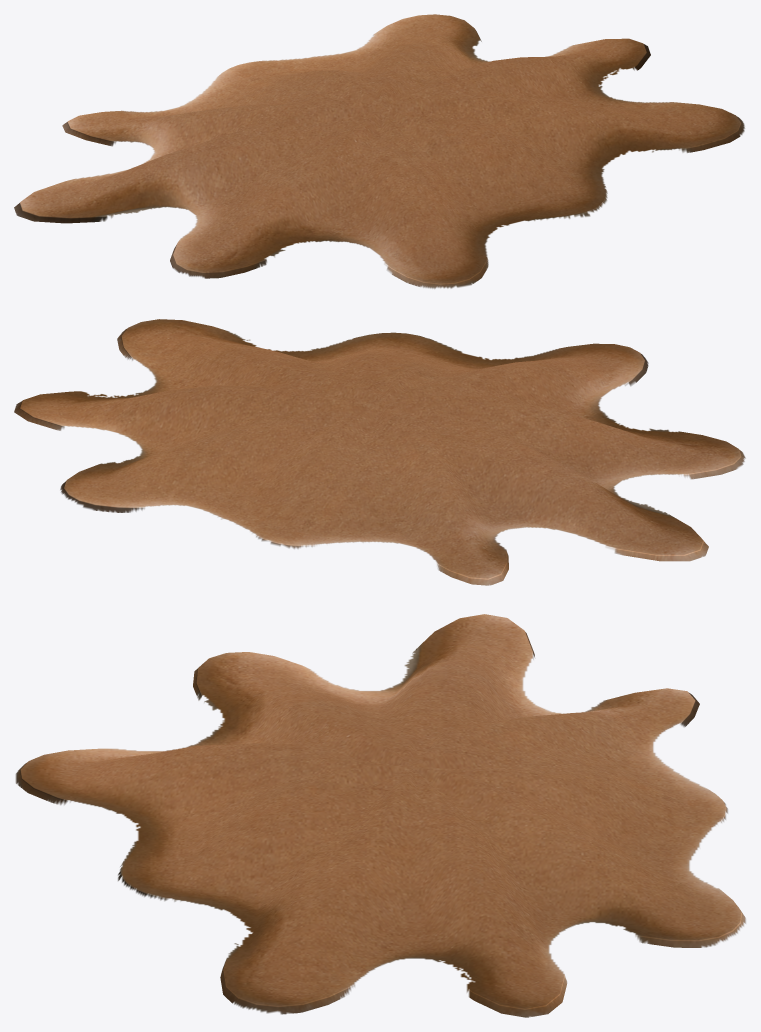
File: dirt_12.glb
The picture shows the model from 3 angles, top to bottom: view 1: azimuth 30°, elevation 25°; view 2: azimuth 150°, elevation 25°; view 3: azimuth 270°, elevation 25°; orthographic projection. The views are drawn at different scales.
Visible parts, largest first — view 1: dirt_12; view 2: dirt_12; view 3: dirt_12.
Boxes of the visible parts, box(x1,y1,x2,y2) form: dirt_12: box(14, 14, 744, 288); dirt_12: box(14, 319, 745, 585); dirt_12: box(15, 614, 746, 1017).
Bounding box in the file's own units: 0.8594 × 0.0632 × 0.6632.
1 material, 1 textured.
